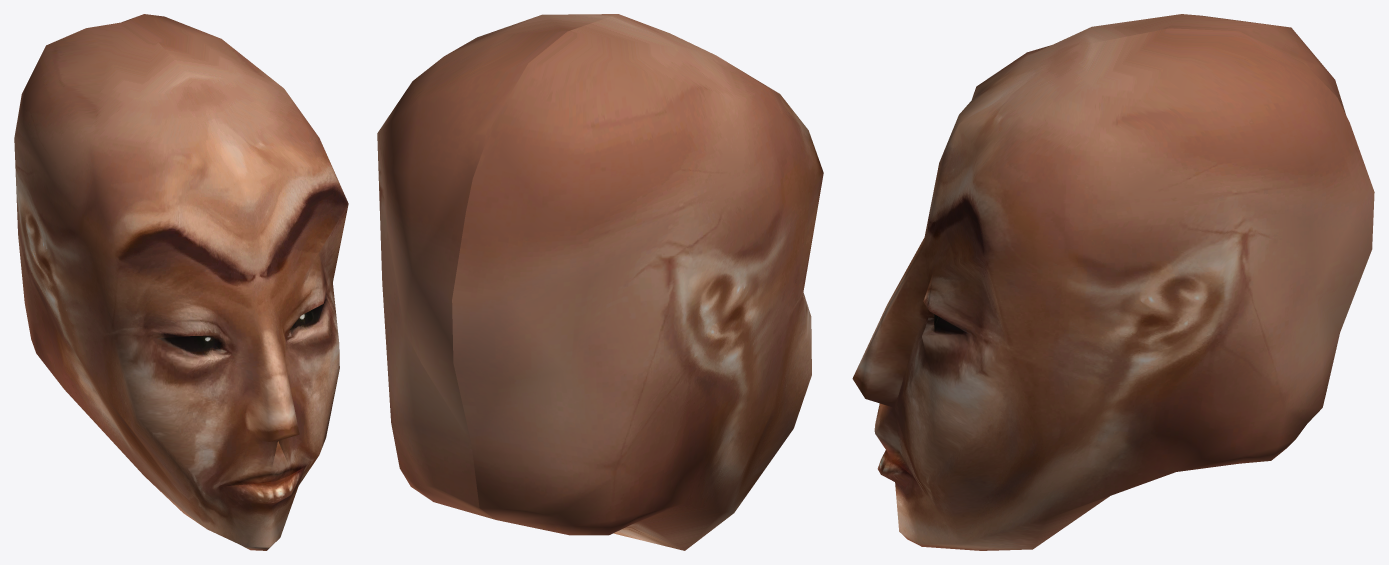
The model's file is b_n_wood elf_m_head_02.glb.
3 views of the same model, side by side, from view 1: azimuth 30°, elevation 25°; view 2: azimuth 150°, elevation 25°; view 3: azimuth 270°, elevation 25° (orthographic). The views are drawn at different scales.
Visible parts, largest first — view 1: Tri B_N_Wood Elf_M_Head_02; view 2: Tri B_N_Wood Elf_M_Head_02; view 3: Tri B_N_Wood Elf_M_Head_02.
Boxes of the visible parts, bbox=[...] form: Tri B_N_Wood Elf_M_Head_02: bbox=[14, 14, 348, 550]; Tri B_N_Wood Elf_M_Head_02: bbox=[377, 14, 823, 550]; Tri B_N_Wood Elf_M_Head_02: bbox=[852, 14, 1374, 550].
Size of the model in its own units: 0.09 by 0.1488 by 0.1368.
Materials: 1 (1 with a texture image).
